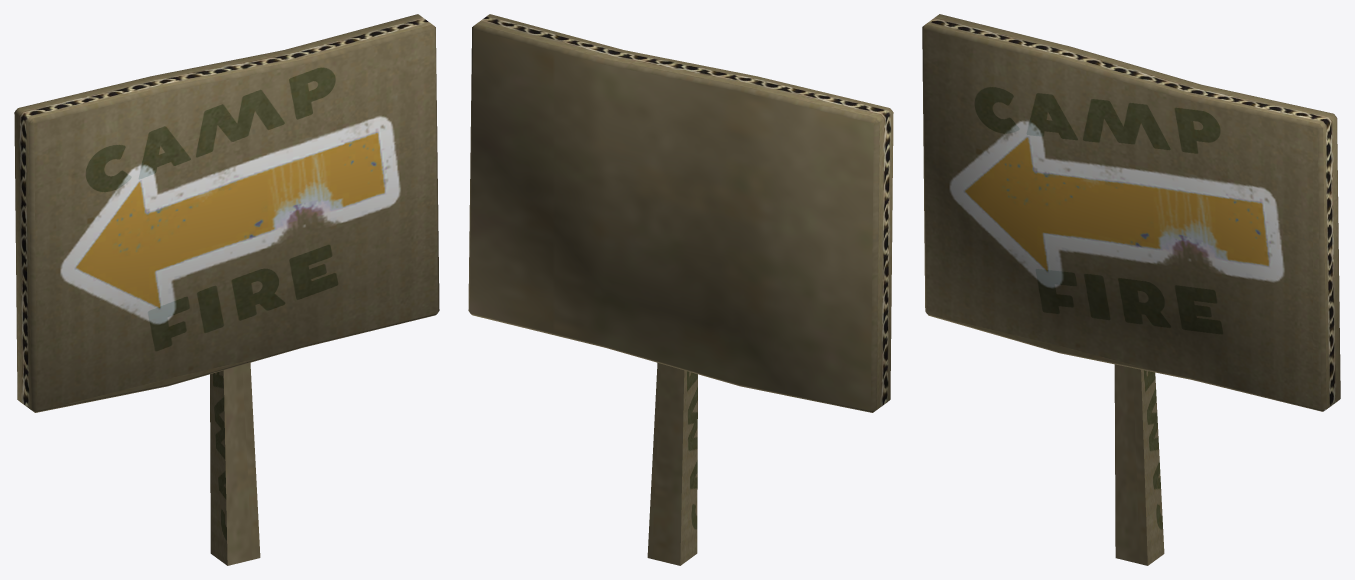
The model's file is arrowsign_toCampfire.fbx.
The picture shows the model from 3 angles, left to right: view 1: azimuth 30°, elevation 25°; view 2: azimuth 150°, elevation 25°; view 3: azimuth 330°, elevation 25°; orthographic projection.
Parts seen in each view (by area): view 1: submesh_0; view 2: submesh_0; view 3: submesh_0.
Part boxes in pixels (<box>): submesh_0: <box>14,14,439,565</box>; submesh_0: <box>468,14,893,565</box>; submesh_0: <box>922,14,1340,565</box>.
Size of the model in its own units: 61.99 by 71.23 by 4.77.
1 material, 1 textured.
